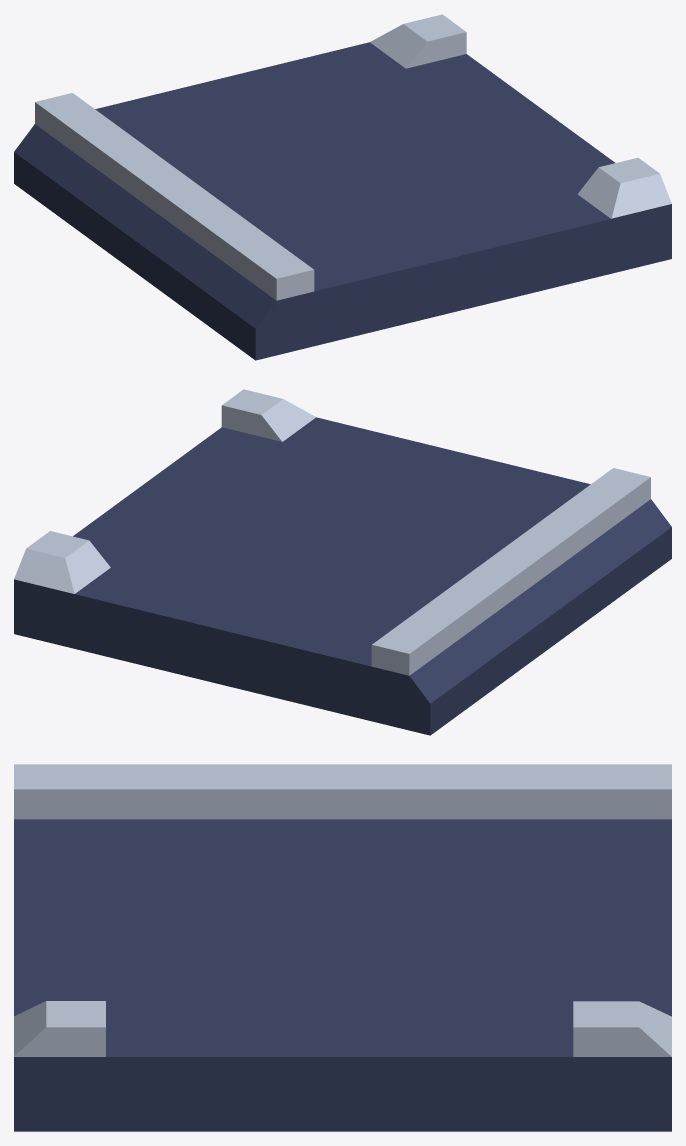
Rendered from base_tjunction_1x1.fbx.
3 views of the same model, one above another, from view 1: azimuth 30°, elevation 25°; view 2: azimuth 150°, elevation 25°; view 3: azimuth 270°, elevation 25° (orthographic). The views are drawn at different scales.
Visible parts, largest first — view 1: base_tjunction_1x1; view 2: base_tjunction_1x1; view 3: base_tjunction_1x1.
Part boxes in pixels (x1=…): base_tjunction_1x1: x1=14, y1=14, x2=671, y2=360; base_tjunction_1x1: x1=14, y1=389, x2=671, y2=735; base_tjunction_1x1: x1=14, y1=764, x2=671, y2=1131.
Size of the model in its own units: 199 by 35 by 200.
